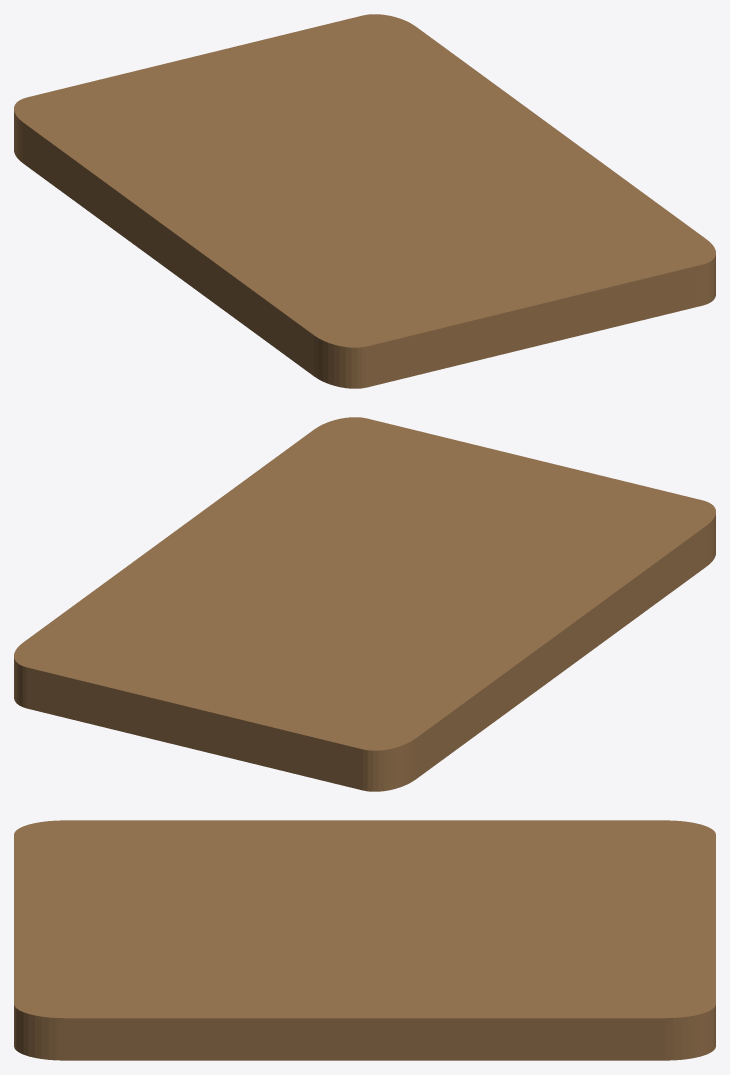
Rendered from board-rect.glb.
The picture shows the model from 3 angles, top to bottom: view 1: azimuth 30°, elevation 25°; view 2: azimuth 150°, elevation 25°; view 3: azimuth 270°, elevation 25°; orthographic projection. The views are drawn at different scales.
Parts seen in each view (by area): view 1: Cube.001; view 2: Cube.001; view 3: Cube.001.
Boxes of the visible parts, x1=… form: Cube.001: x1=14, y1=14, x2=715, y2=388; Cube.001: x1=14, y1=417, x2=715, y2=791; Cube.001: x1=14, y1=820, x2=715, y2=1060.
Bounding box in the file's own units: 2 × 0.2 × 3.
